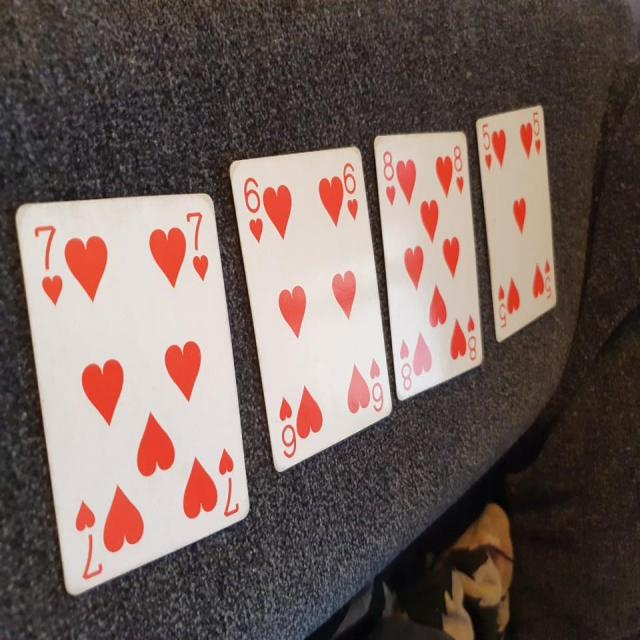5 Hearts: (473, 94, 564, 345)
6 Hearts: (219, 141, 396, 474)
7 Hearts: (13, 186, 257, 610)
8 Hearts: (373, 133, 486, 408)
